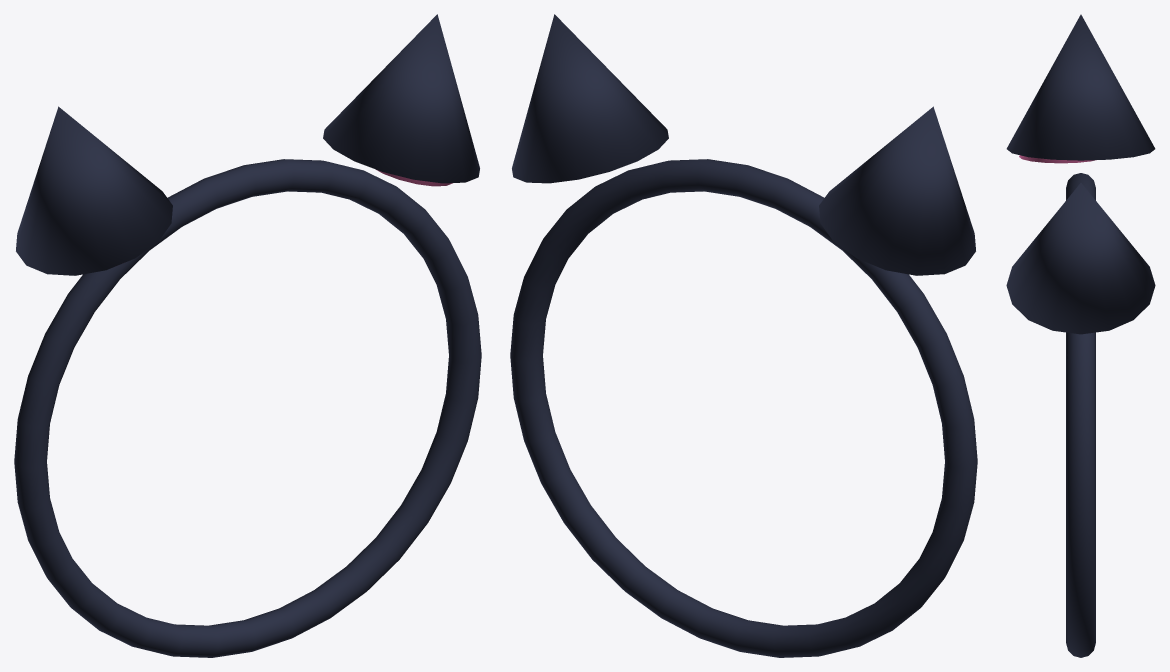
The model's file is cat_ears.obj.
The picture shows the model from 3 angles, left to right: view 1: azimuth 30°, elevation 25°; view 2: azimuth 150°, elevation 25°; view 3: azimuth 270°, elevation 25°; orthographic projection. The views are drawn at different scales.
Parts seen in each view (by area): view 1: ear_outer; view 2: ear_outer; view 3: ear_outer, ear_inner.
Boxes of the visible parts, box(x1,y1,x2,y2) form: ear_outer: box(14, 14, 481, 657); ear_outer: box(510, 14, 977, 657); ear_outer: box(1006, 14, 1155, 657); ear_inner: box(1019, 155, 1096, 163).
Size of the model in its own units: 0.196 by 0.2389 by 0.06.
